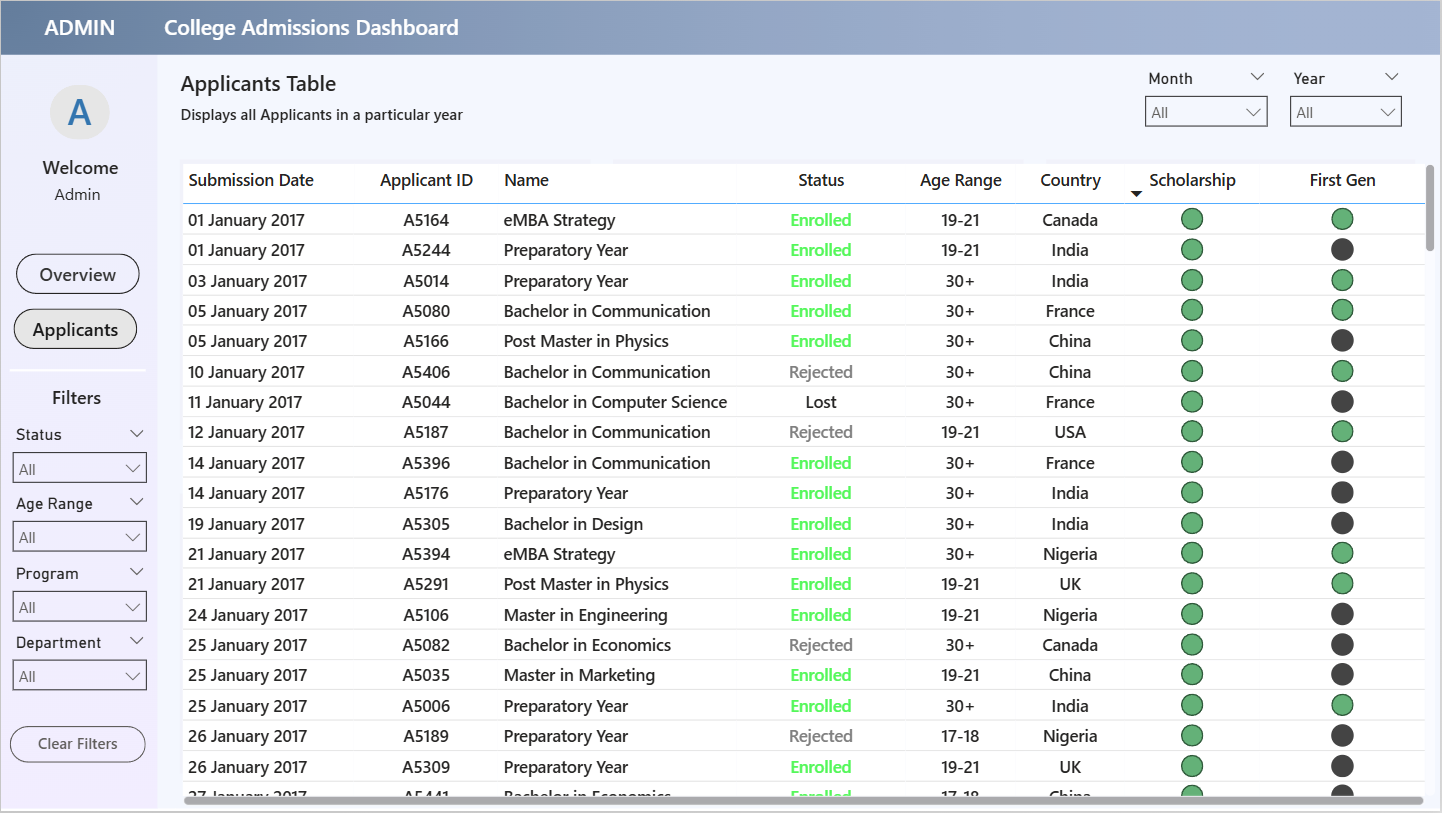

The dashboard page shown, as its layout file describes it:
{"tool":"powerbi","page":{"name":"Applicants","canvas":[1280,720],"ordinal":1},"visuals":[{"type":"textbox","box":[139.8,0,1140.2,47.6],"z":0},{"type":"textbox","box":[0,0,140.2,47.6],"z":1000},{"type":"textbox","box":[43,70.9,55.8,55.8],"z":2000},{"type":"shape","box":[43,74.4,53.5,48.8],"z":3000},{"type":"textbox","box":[38.4,157,58.1,32.6],"z":4000},{"type":"textbox","box":[43.4,71.1,53,55.4],"z":5000},{"type":"textbox","box":[31.4,131.4,79.1,34.9],"z":6000},{"type":"pageNavigator","box":[12.8,224.4,110.5,36],"z":7000},{"type":"pageNavigator","box":[11.6,273.3,110.5,36],"z":8000},{"type":"textbox","box":[31.4,336,72.1,36],"z":9000},{"type":"slicer","fields":{"Values":["programs.name"]},"box":[0,495.4,139.5,61.6],"z":10000},{"type":"slicer","fields":{"Values":["programs.dept"]},"box":[0,557,139.5,61.6],"z":11000},{"type":"slicer","fields":{"Values":["Date table.Year"]},"box":[1136,55.8,119.8,59.3],"z":12000},{"type":"tableEx","fields":{"Values":["applications.submission_date","applicants.applicant_id","programs.name","applications.status","age_ranges.label","applicants.country","academic_profile.scholarship_requested","applicants.is_first_generation"]},"box":[155.8,139.5,1124.4,580.2],"z":13000},{"type":"slicer","fields":{"Values":["age_ranges.label"]},"box":[0,433.7,139.5,61.6],"z":14000},{"type":"slicer","fields":{"Values":["applications.status"]},"box":[0,372.3,139.8,61.4],"z":15000},{"type":"slicer","fields":{"Values":["Date table.Month"]},"box":[1007,55.8,129.1,59.3],"z":16000},{"type":"textbox","box":[154.7,55.8,232.6,34.9],"z":17000},{"type":"textbox","box":[154.2,86.7,428.9,30.1],"z":18000},{"type":"shape","box":[8.1,291.9,120.9,72.1],"z":19000},{"type":"actionButton","box":[8.1,644.2,120.9,32.6],"z":20000}]}

Visuals, with their boxes on the page's 1280x720 design canvas (x1, y1, x2, y2). These are canvas units, not pixel positions in the 1442x813 screenshot, which may show the page scaled, cropped or inside an application window:
textbox: left=140, top=0, right=1280, bottom=48
textbox: left=0, top=0, right=140, bottom=48
textbox: left=43, top=71, right=99, bottom=127
shape: left=43, top=74, right=96, bottom=123
textbox: left=38, top=157, right=96, bottom=190
textbox: left=43, top=71, right=96, bottom=126
textbox: left=31, top=131, right=110, bottom=166
pageNavigator: left=13, top=224, right=123, bottom=260
pageNavigator: left=12, top=273, right=122, bottom=309
textbox: left=31, top=336, right=104, bottom=372
slicer - programs.name: left=0, top=495, right=140, bottom=557
slicer - programs.dept: left=0, top=557, right=140, bottom=619
slicer - Date table.Year: left=1136, top=56, right=1256, bottom=115
tableEx - applications.submission_date x applicants.applicant_id: left=156, top=140, right=1280, bottom=720
slicer - age_ranges.label: left=0, top=434, right=140, bottom=495
slicer - applications.status: left=0, top=372, right=140, bottom=434
slicer - Date table.Month: left=1007, top=56, right=1136, bottom=115
textbox: left=155, top=56, right=387, bottom=91
textbox: left=154, top=87, right=583, bottom=117
shape: left=8, top=292, right=129, bottom=364
actionButton: left=8, top=644, right=129, bottom=677
